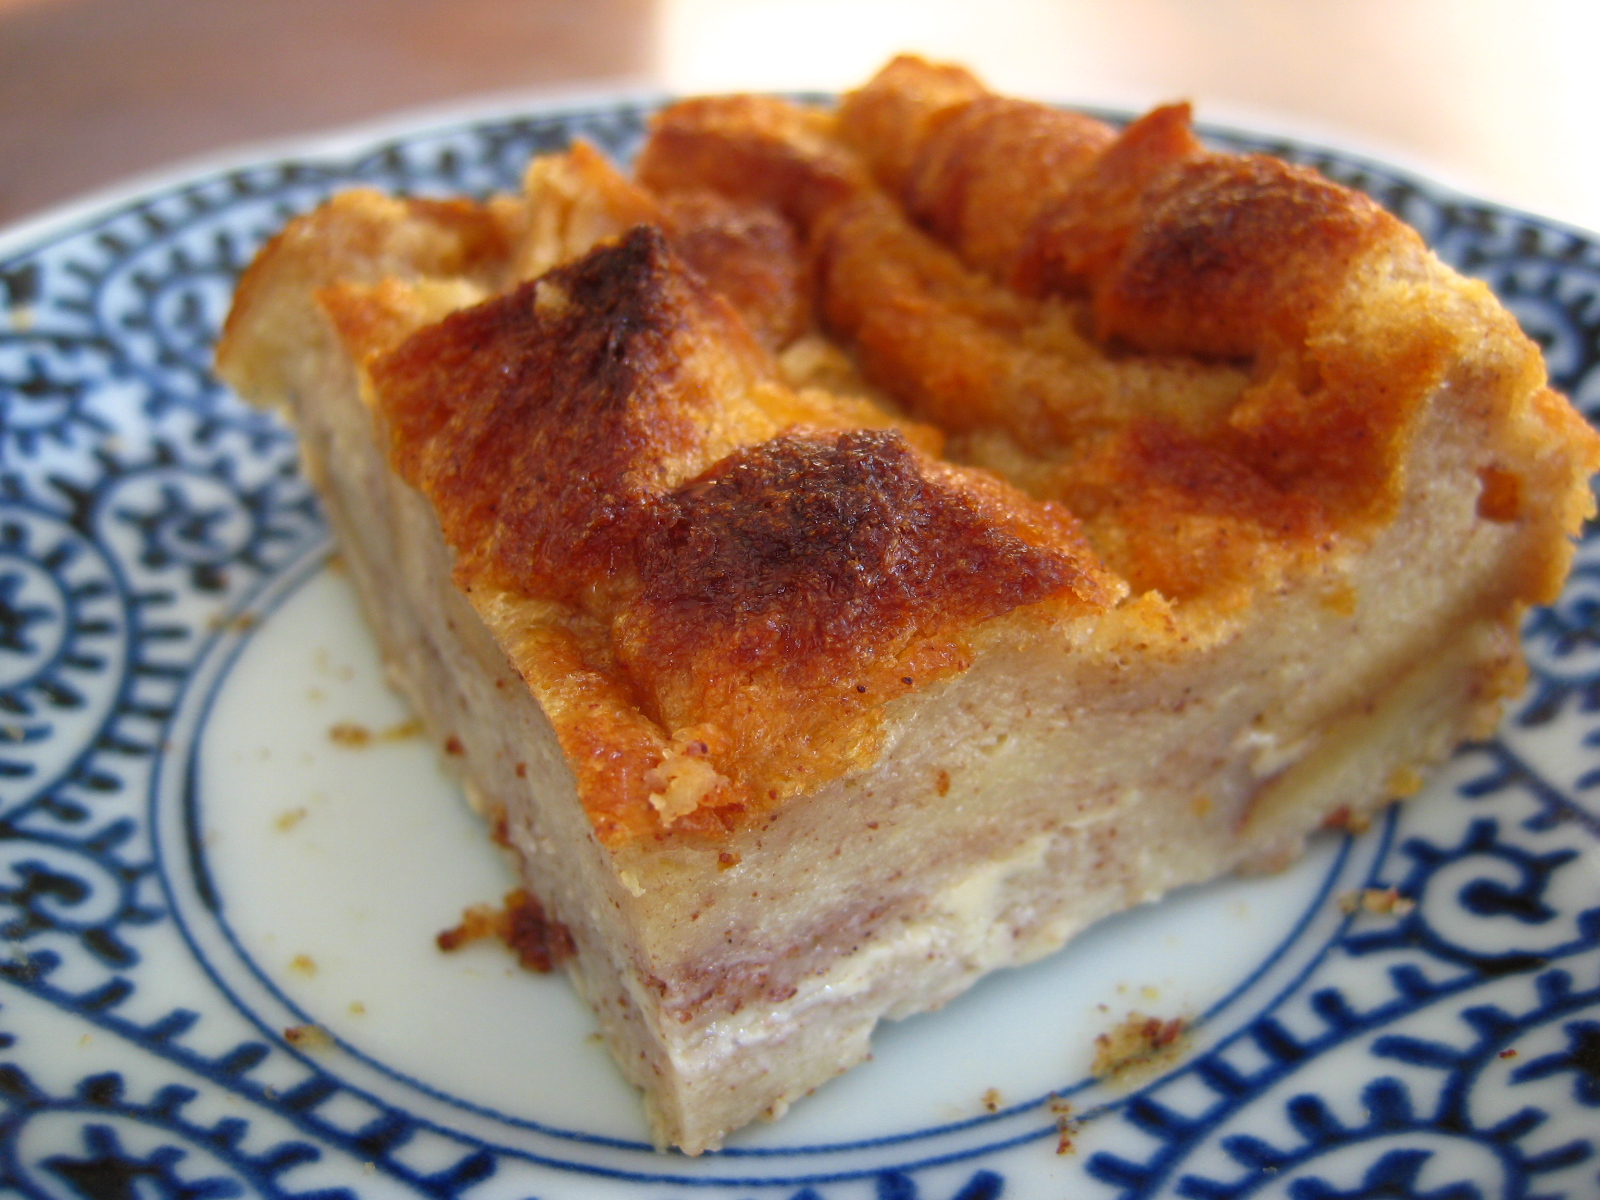slice of bread: (253, 95, 1560, 1068)
